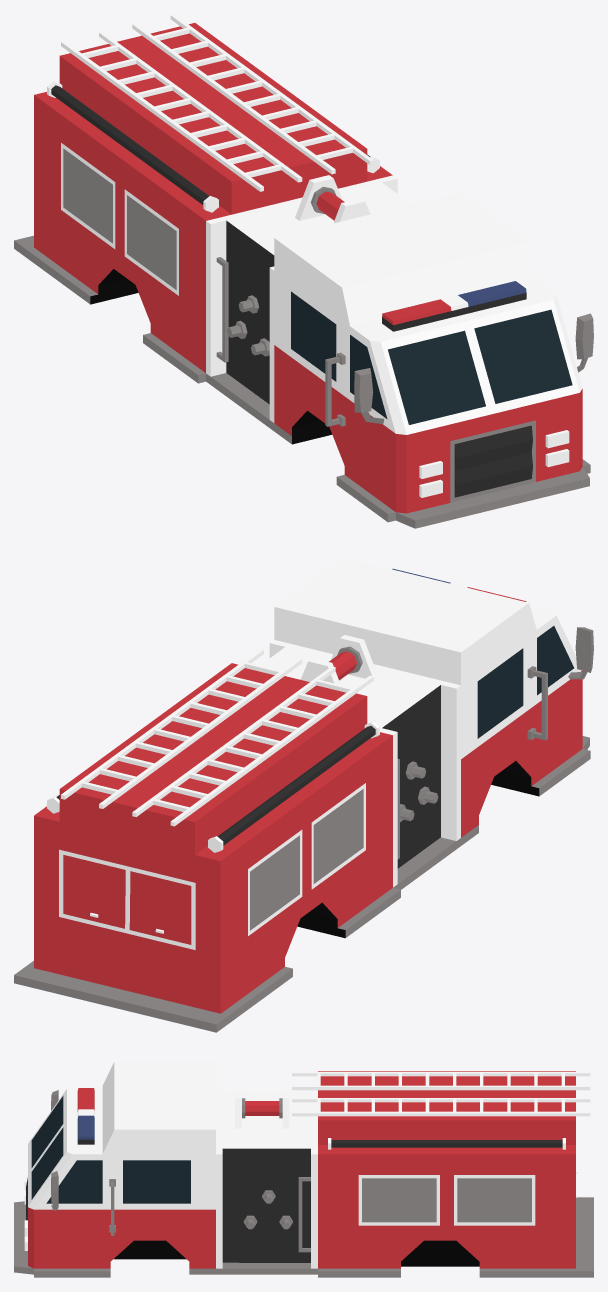
File: firetruck-base.glb
The picture shows the model from 3 angles, top to bottom: view 1: azimuth 30°, elevation 25°; view 2: azimuth 150°, elevation 25°; view 3: azimuth 270°, elevation 25°; orthographic projection. The views are drawn at different scales.
Parts seen in each view (by area): view 1: firetruck-base; view 2: firetruck-base; view 3: firetruck-base.
Boxes of the visible parts, x1,y1,x2,y2 form: firetruck-base: (14, 14, 593, 528); firetruck-base: (14, 557, 593, 1032); firetruck-base: (14, 1061, 593, 1277).
Bounding box in the file's own units: 3.02 × 2.71 × 8.54.
Materials: 1 (1 with a texture image).
